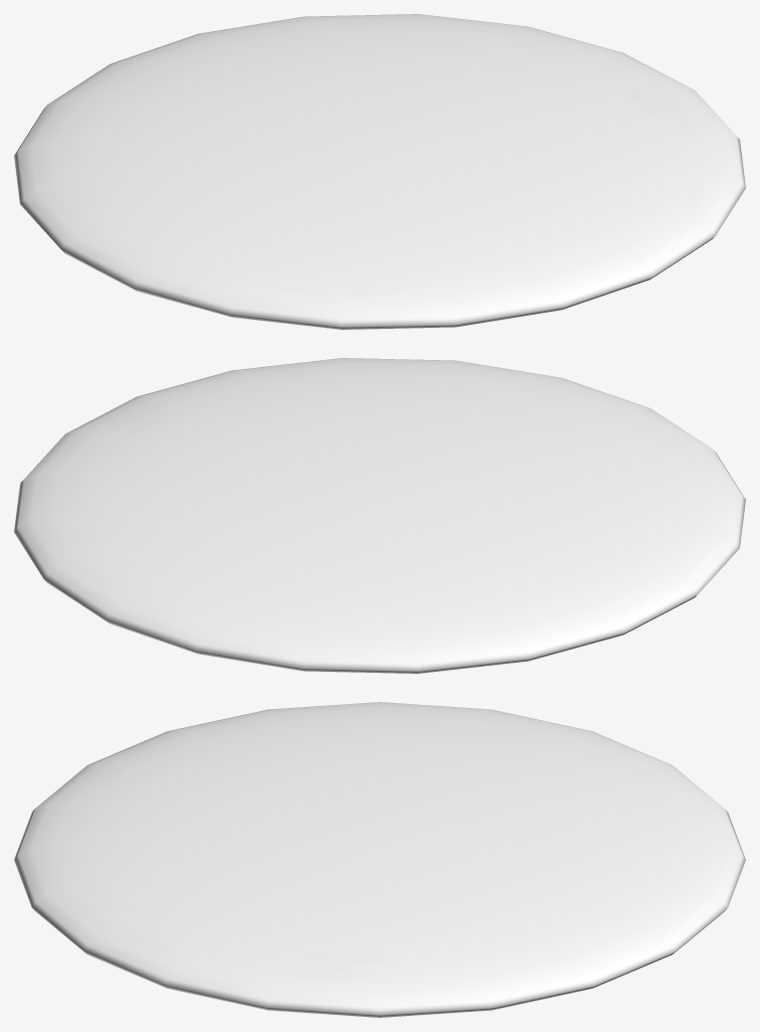
Rendered from plato.obj.
3 renders of one model, top to bottom at view 1: azimuth 30°, elevation 25°; view 2: azimuth 150°, elevation 25°; view 3: azimuth 270°, elevation 25°, orthographic.
Parts seen in each view (by area): view 1: pSphere1; view 2: pSphere1; view 3: pSphere1.
Boxes of the visible parts, x1,y1,x2,y2 form: pSphere1: (14,14,745,329); pSphere1: (14,358,745,673); pSphere1: (14,702,745,1017).
Size of the model in its own units: 2 by 0.2 by 2.
Materials: 1 (1 with a texture image).
